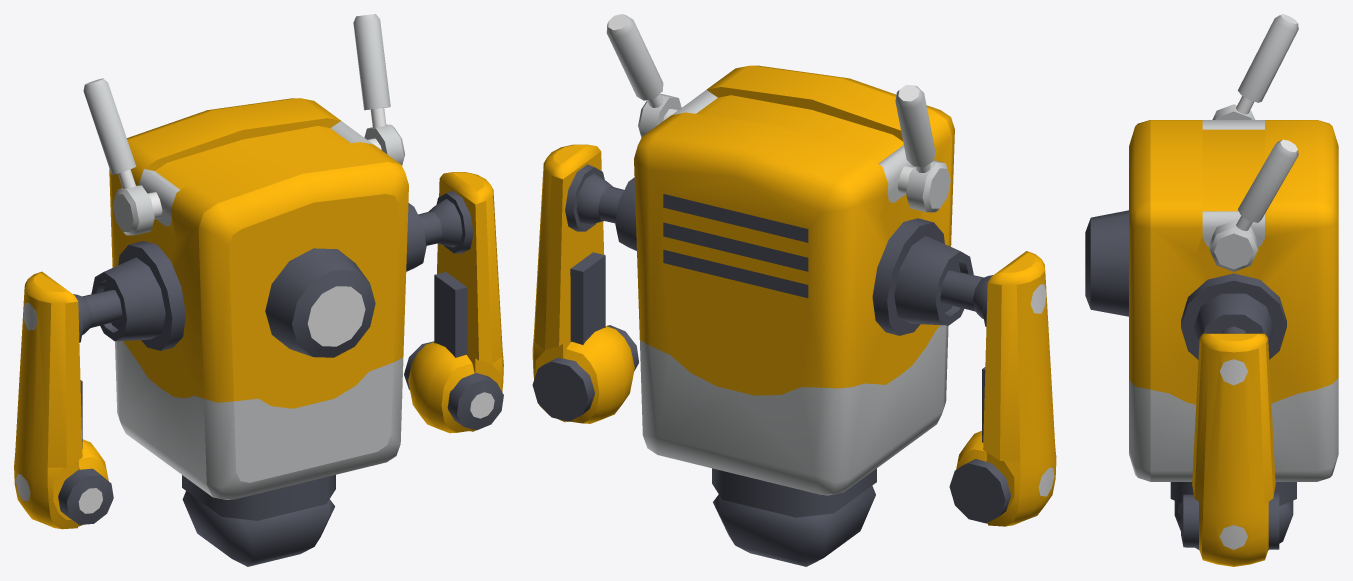
The model's file is CripLit.fbx.
3 renders of one model, left to right at view 1: azimuth 30°, elevation 25°; view 2: azimuth 150°, elevation 25°; view 3: azimuth 270°, elevation 25°, orthographic. The views are drawn at different scales.
Parts seen in each view (by area): view 1: CripLit_Body, CripLit_FistRight, CripLit_FistLeft, CripLit_Down, CripLit_HandRight, CripLit_AntennaRight, CripLit_AntennaLeft, CripLit_HandLeft; view 2: CripLit_Body, CripLit_FistRight, CripLit_FistLeft, CripLit_Down, CripLit_HandRight, CripLit_AntennaRight, CripLit_AntennaLeft, CripLit_HandLeft; view 3: CripLit_Body, CripLit_FistLeft, CripLit_AntennaLeft, CripLit_AntennaRight, CripLit_HandLeft, CripLit_Down.
Part boxes in pixels (<box>): CripLit_Body: <box>109,98,408,520</box>; CripLit_FistRight: <box>14,271,113,529</box>; CripLit_FistLeft: <box>404,172,503,433</box>; CripLit_Down: <box>182,491,334,566</box>; CripLit_HandRight: <box>73,257,165,341</box>; CripLit_AntennaRight: <box>83,78,162,235</box>; CripLit_AntennaLeft: <box>353,14,405,165</box>; CripLit_HandLeft: <box>406,199,462,271</box>; CripLit_Body: <box>634,65,954,517</box>; CripLit_FistRight: <box>949,251,1056,526</box>; CripLit_FistLeft: <box>532,144,638,423</box>; CripLit_Down: <box>713,485,875,566</box>; CripLit_HandRight: <box>894,236,992,325</box>; CripLit_AntennaRight: <box>895,85,950,212</box>; CripLit_AntennaLeft: <box>606,14,681,137</box>; CripLit_HandLeft: <box>576,173,636,250</box>; CripLit_Body: <box>1085,120,1338,506</box>; CripLit_FistLeft: <box>1181,333,1279,566</box>; CripLit_AntennaLeft: <box>1209,139,1298,271</box>; CripLit_AntennaRight: <box>1212,14,1298,119</box>; CripLit_HandLeft: <box>1193,293,1273,344</box>; CripLit_Down: <box>1174,501,1293,549</box>.
Size of the model in its own units: 500 by 486 by 241.
